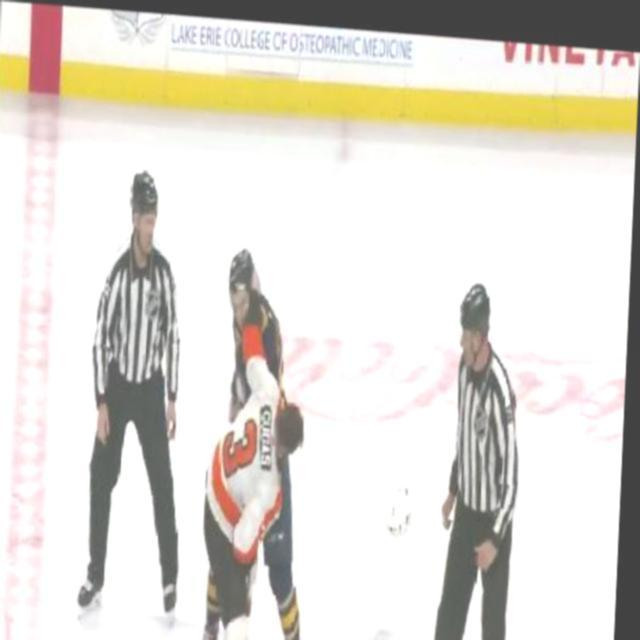fight: (202, 241, 328, 640)
